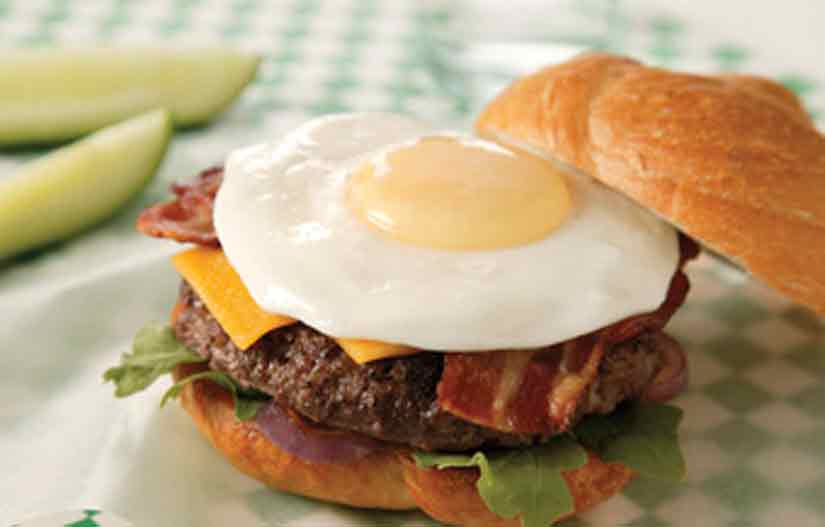fried egg: (247, 128, 587, 334)
slice of bread: (520, 59, 825, 232)
